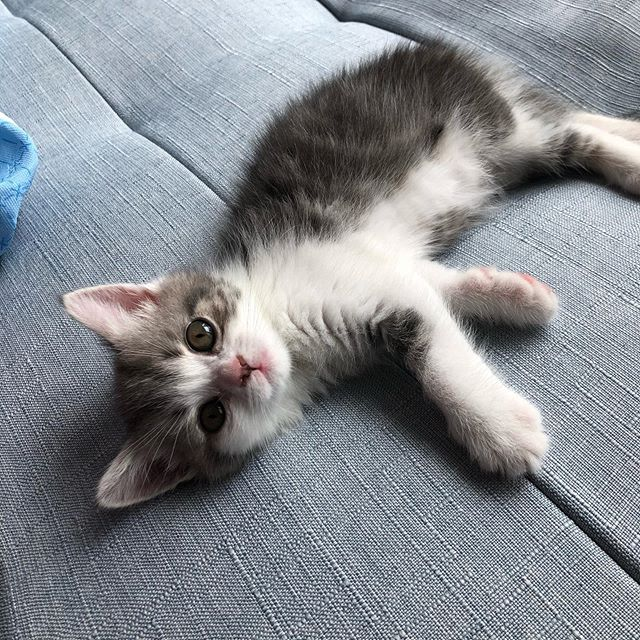cat: (60, 268, 295, 506)
